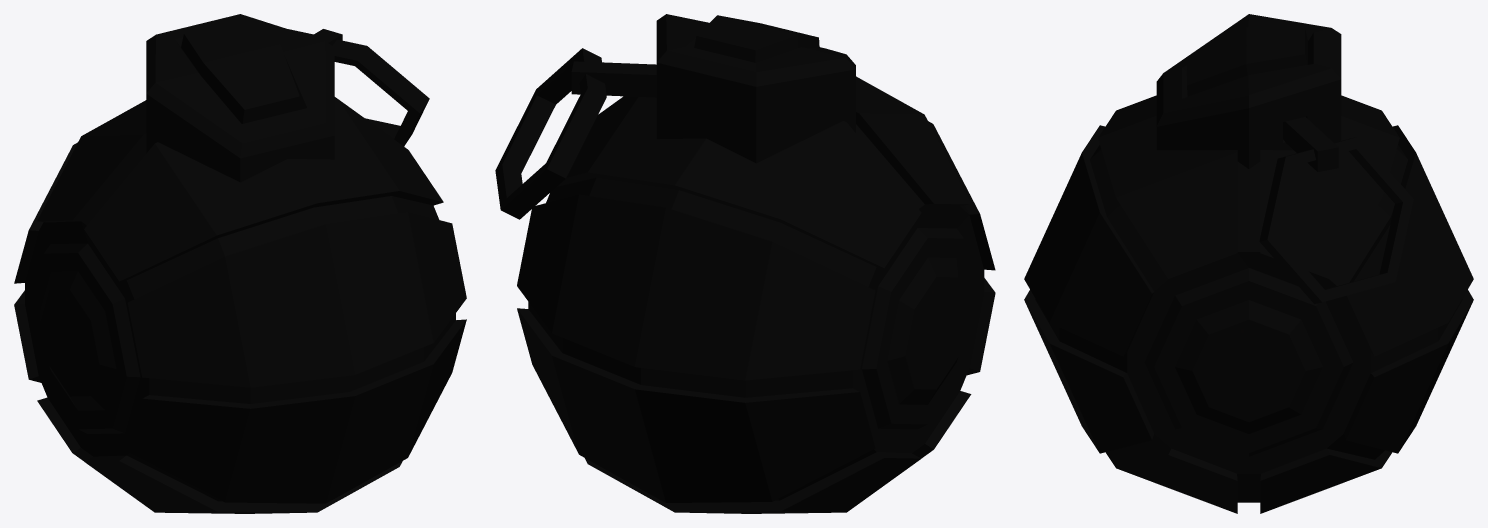
The model's file is cyber_SM_Wep_Grenade_01.gltf.
3 renders of one model, left to right at view 1: azimuth 30°, elevation 25°; view 2: azimuth 150°, elevation 25°; view 3: azimuth 270°, elevation 25°, orthographic. The views are drawn at different scales.
Parts seen in each view (by area): view 1: SM_Wep_Grenade_01; view 2: SM_Wep_Grenade_01; view 3: SM_Wep_Grenade_01.
Part boxes in pixels (<box>): SM_Wep_Grenade_01: <box>14,14,466,513</box>; SM_Wep_Grenade_01: <box>495,14,995,513</box>; SM_Wep_Grenade_01: <box>1024,14,1473,513</box>.
Size of the model in its own units: 0.1099 by 0.1278 by 0.1151.
1 material, 1 textured.
